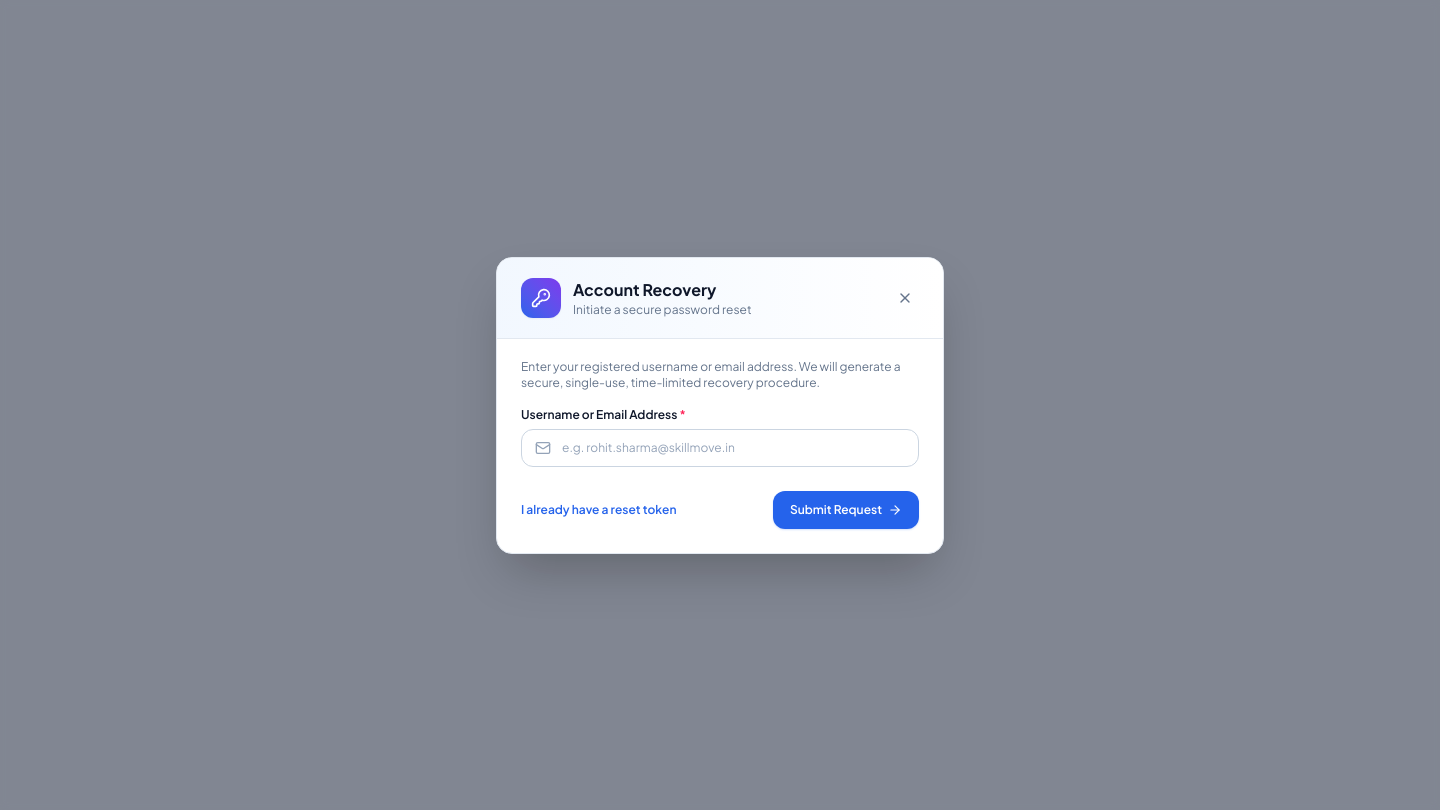
TASK 7 — Secure Password Change and Reset Workflow › 2. Employee Self-Service Reset Request & Email Unavailable Alert › reports email delivery is unavailable when outbound email service is not configured
Expected: the heading "Account Recovery" is shown, [573,278,716,300]
Type "counsellor.north@skillmove.in" into the field with placeholder "e.g. rohit.sharma@skillmove.in". click: point(720, 448)
box: [521,428,919,466]
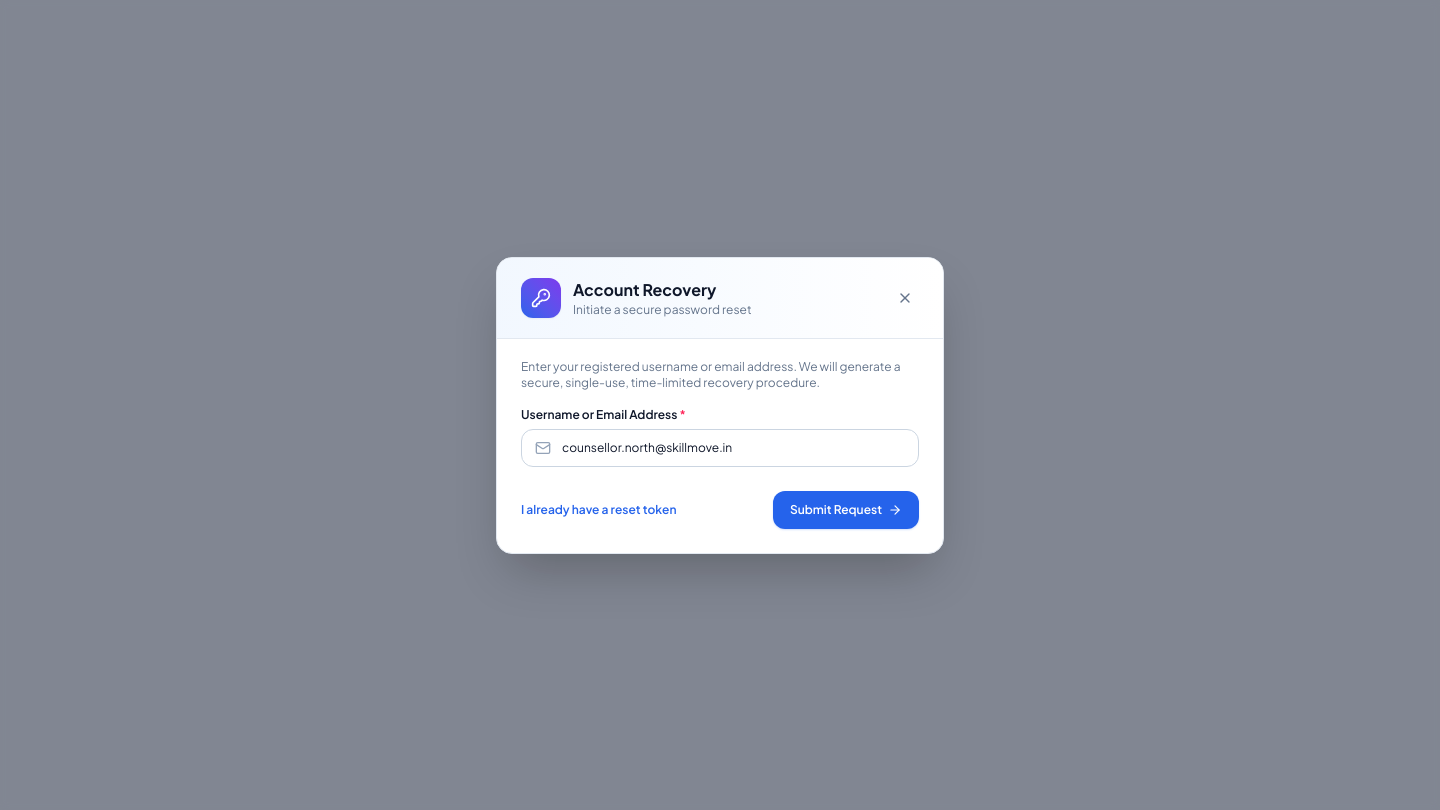
Click the button "Submit Request". click: point(846, 510)
box: [773,490,919,528]
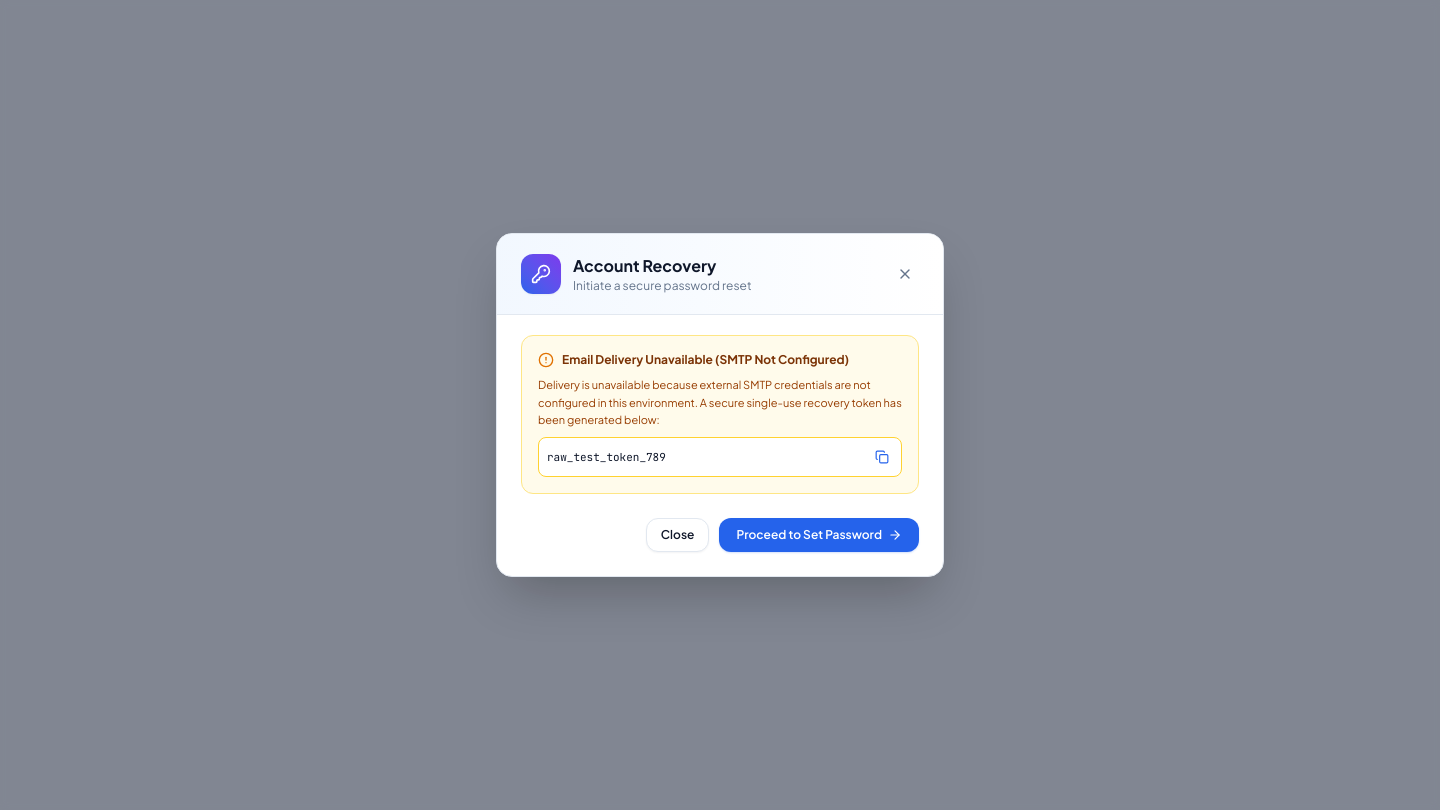
Expected: the text "Email Delivery Unavailable (SMTP Not Configured)" is shown, [562,352,849,368]
Expected: the text "external smtp credentials are not configured in this environment" is shown, [538,378,902,426]
Expected: the text "raw_test_token_789" is shown, [547,450,666,465]
Note: User can click "Proceed to Set Password" to proceed directly with token
Click the button "Proceed to Set Password". click: point(819, 535)
box: [719,518,919,552]
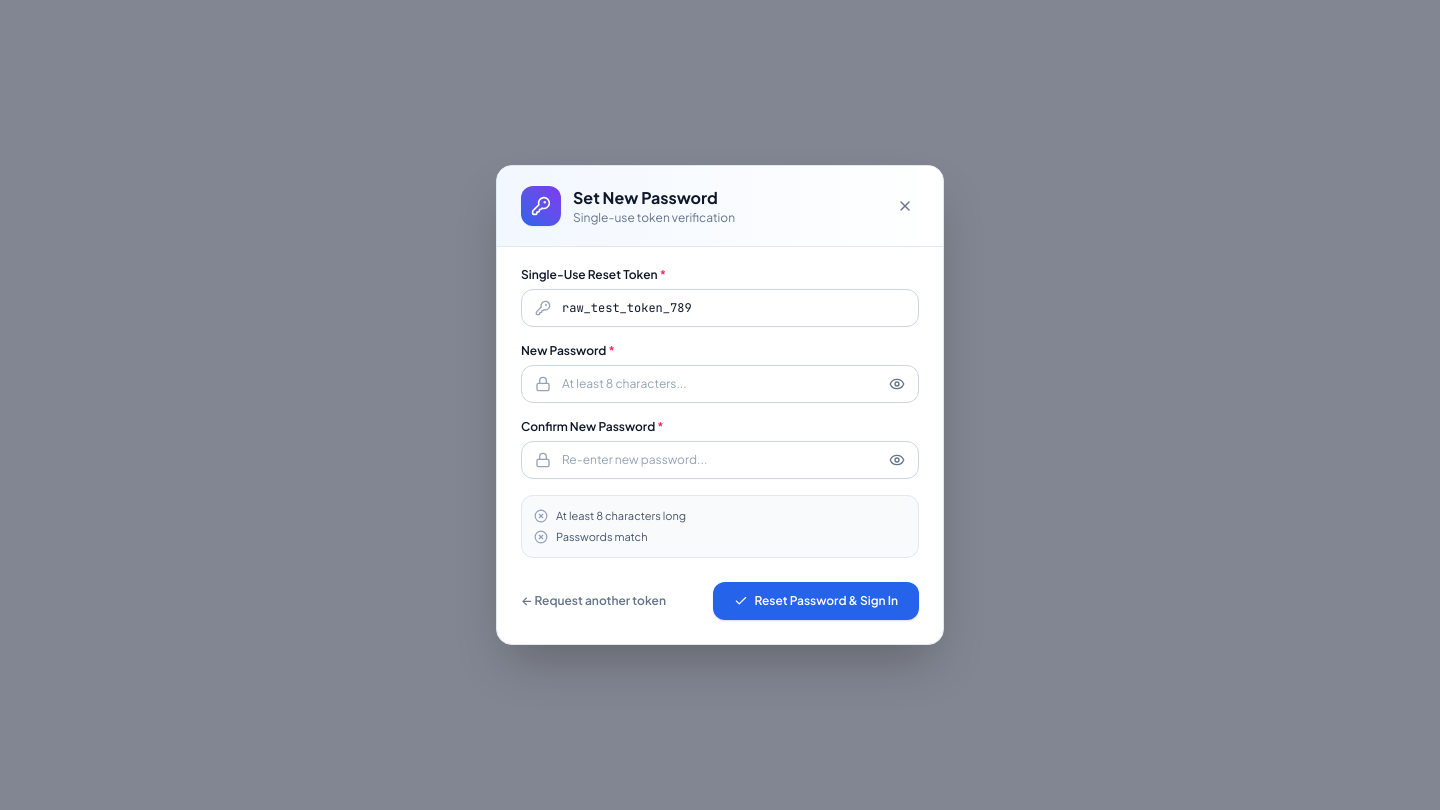
Expected: the heading "Set New Password" is shown, [573,186,735,210]
